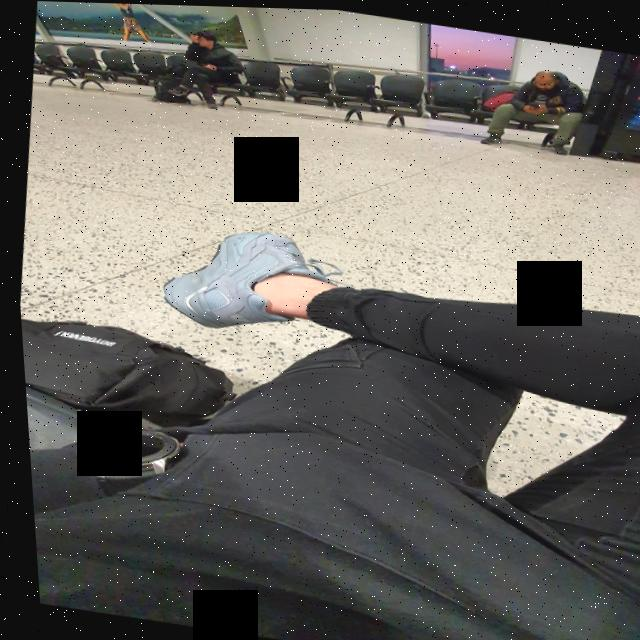shoe: (137, 205, 366, 350)
